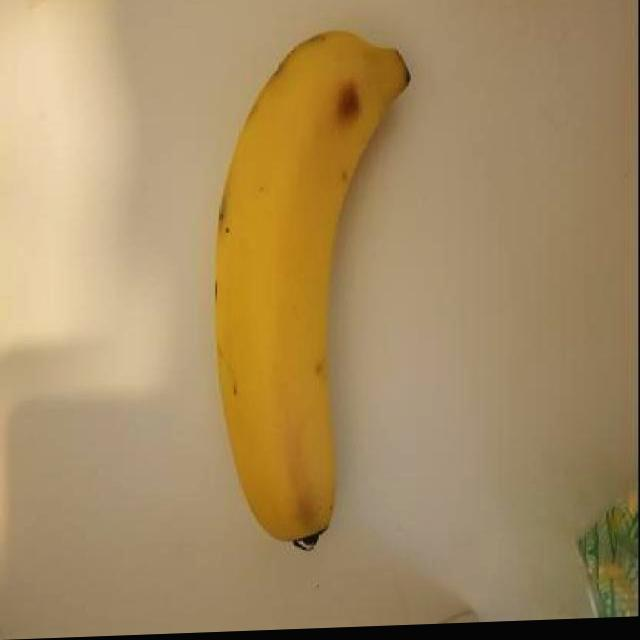banana: (209, 13, 414, 562)
